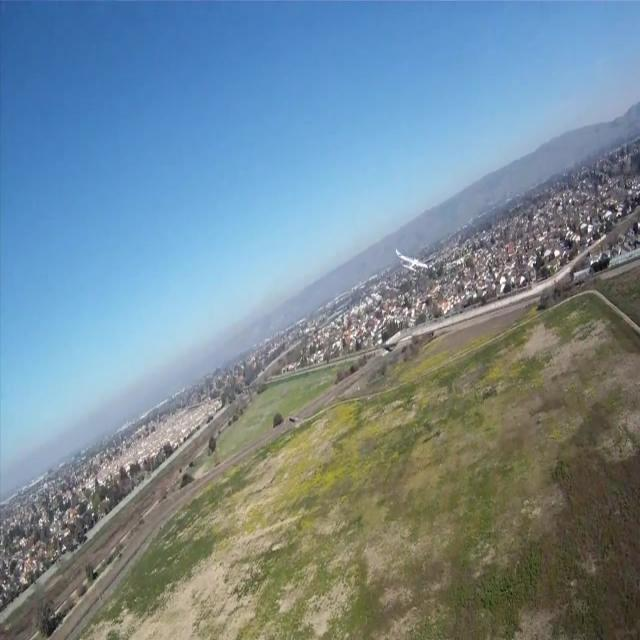iha: (394, 247, 431, 275)
